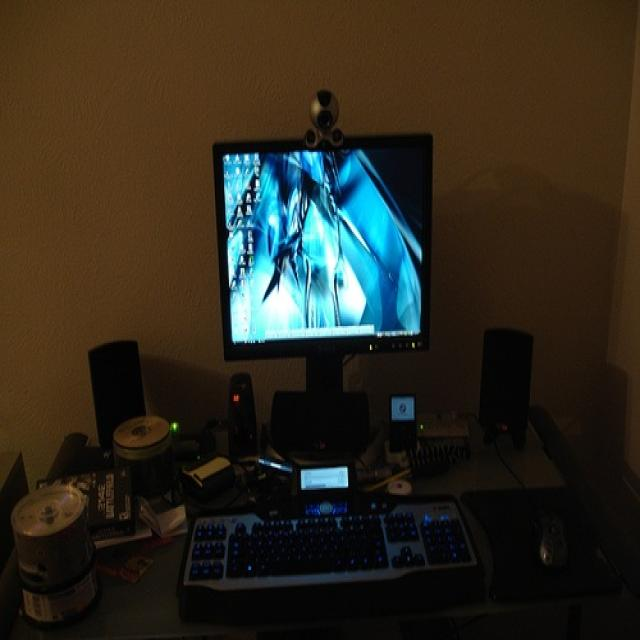tvmonitor: (211, 132, 435, 470)
